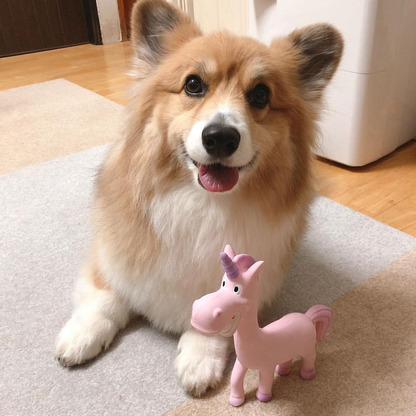Corgi: (84, 7, 331, 387)
